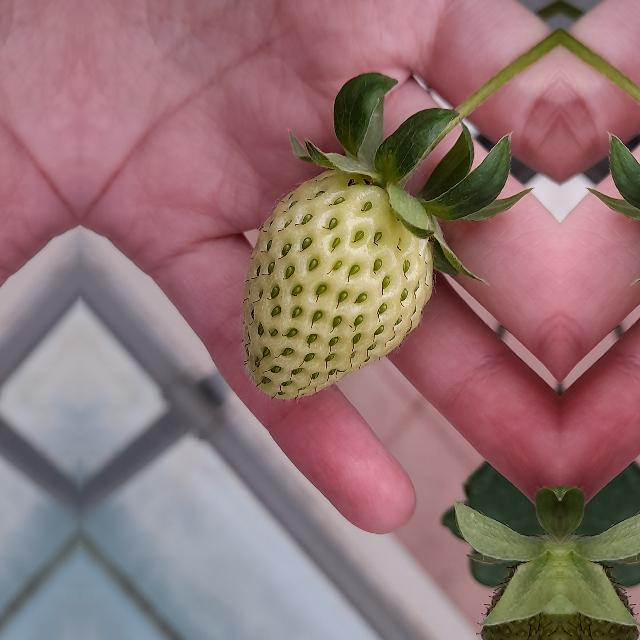Health_25: (243, 170, 432, 398)
